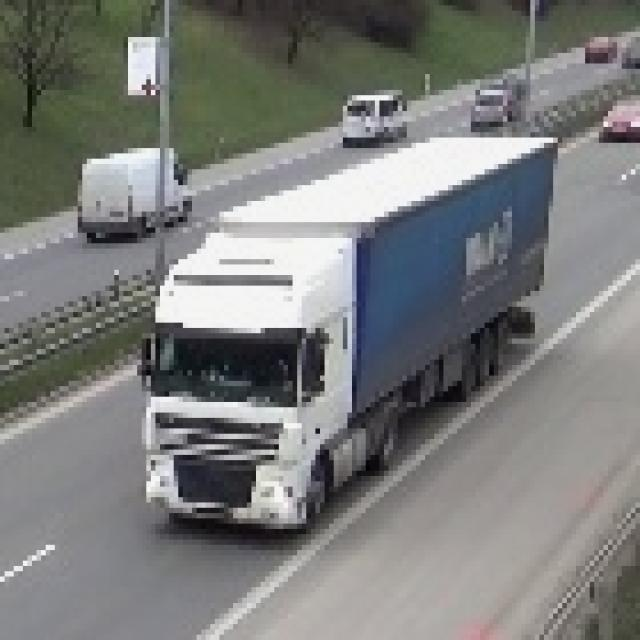TRUCK: (142, 136, 555, 528), (76, 146, 195, 238)
